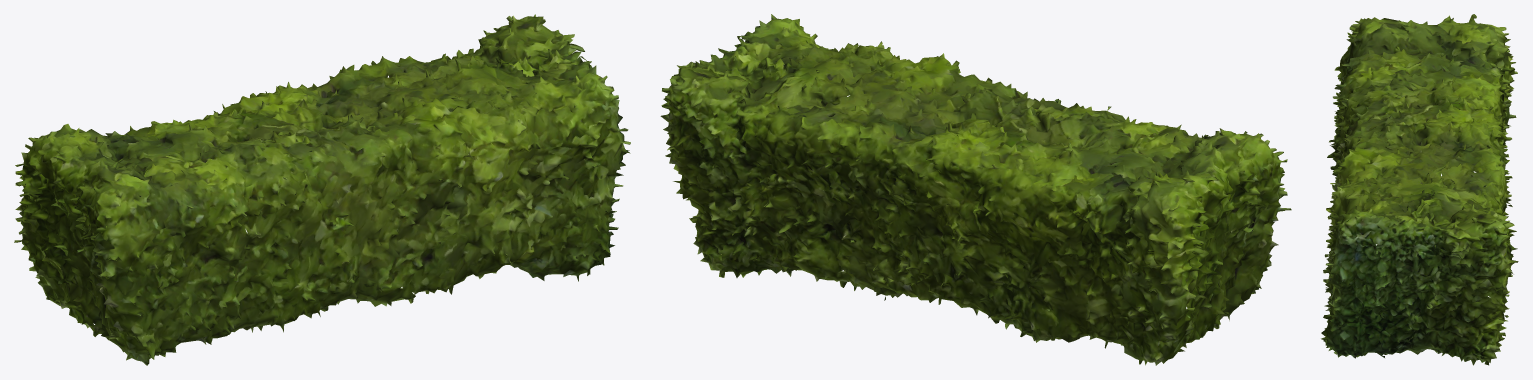
The model's file is nature-bush-hedge.glb.
The picture shows the model from 3 angles, left to right: view 1: azimuth 30°, elevation 25°; view 2: azimuth 150°, elevation 25°; view 3: azimuth 270°, elevation 25°; orthographic projection. The views are drawn at different scales.
Visible parts, largest first — view 1: tripo_node_7d5a0e15-a1a4-41e2-89cb-3c8853e91d6a; view 2: tripo_node_7d5a0e15-a1a4-41e2-89cb-3c8853e91d6a; view 3: tripo_node_7d5a0e15-a1a4-41e2-89cb-3c8853e91d6a.
Part boxes in pixels (x1,y1,x2,y2): tripo_node_7d5a0e15-a1a4-41e2-89cb-3c8853e91d6a: [14, 14, 630, 365]; tripo_node_7d5a0e15-a1a4-41e2-89cb-3c8853e91d6a: [660, 14, 1291, 365]; tripo_node_7d5a0e15-a1a4-41e2-89cb-3c8853e91d6a: [1321, 14, 1518, 365].
Size of the model in its own units: 4.2 by 1.5 by 1.6.
1 material, 1 textured.
